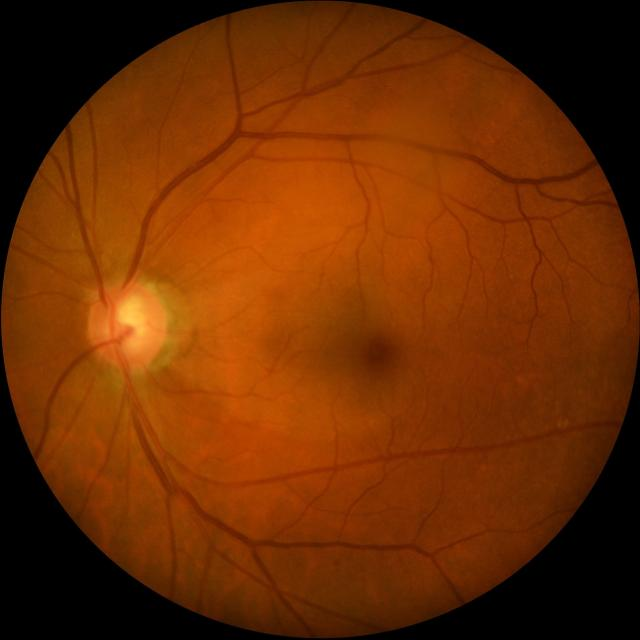OC: (112, 298, 147, 350)
OD: (86, 278, 165, 369)
